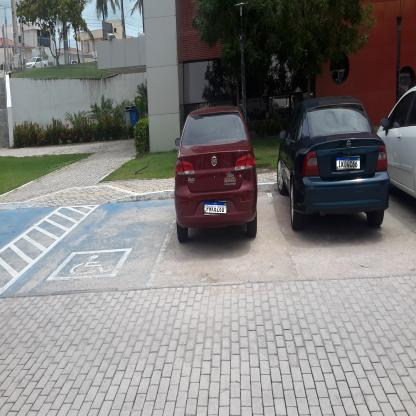PlacaM: (204, 201, 227, 214), (336, 157, 360, 169)
